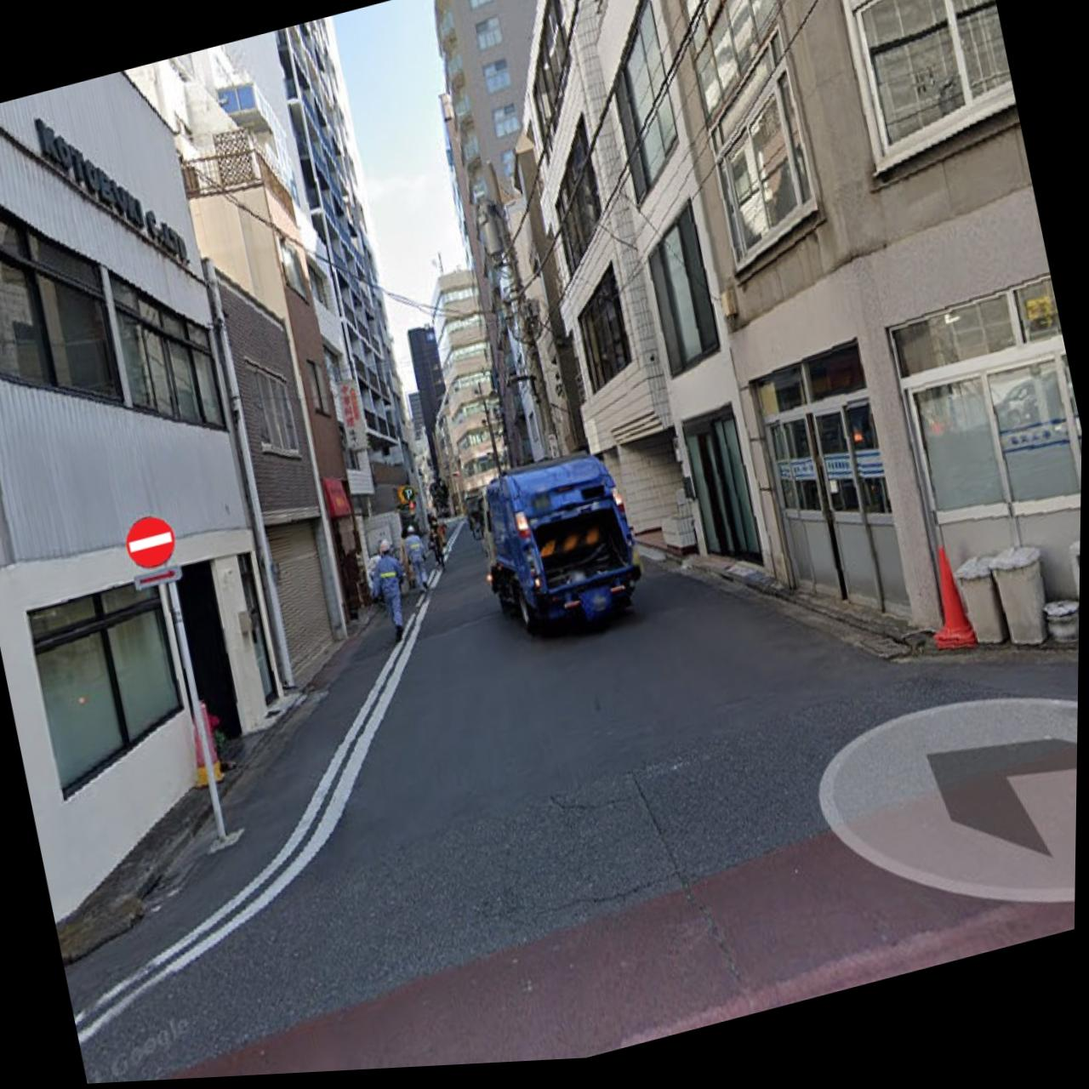barrier: (119, 504, 182, 578)
